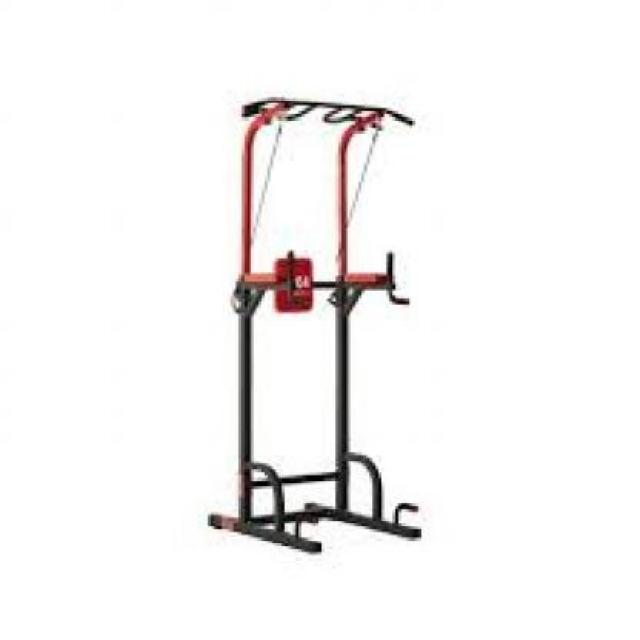chinning dipping: (206, 95, 426, 554)
